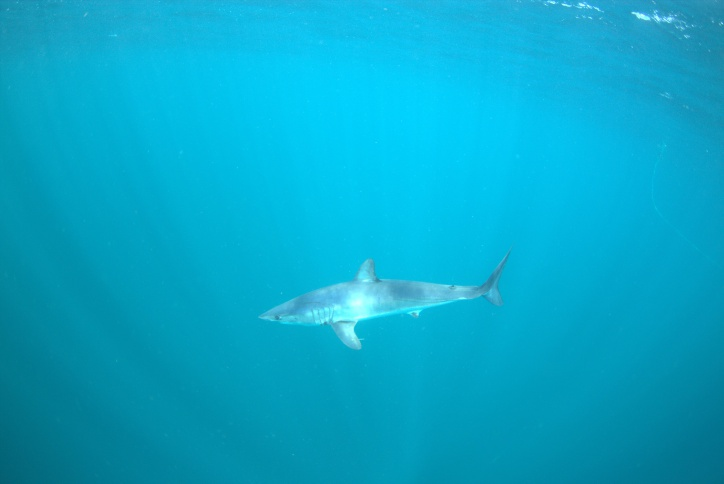Mako: (257, 246, 516, 358)
